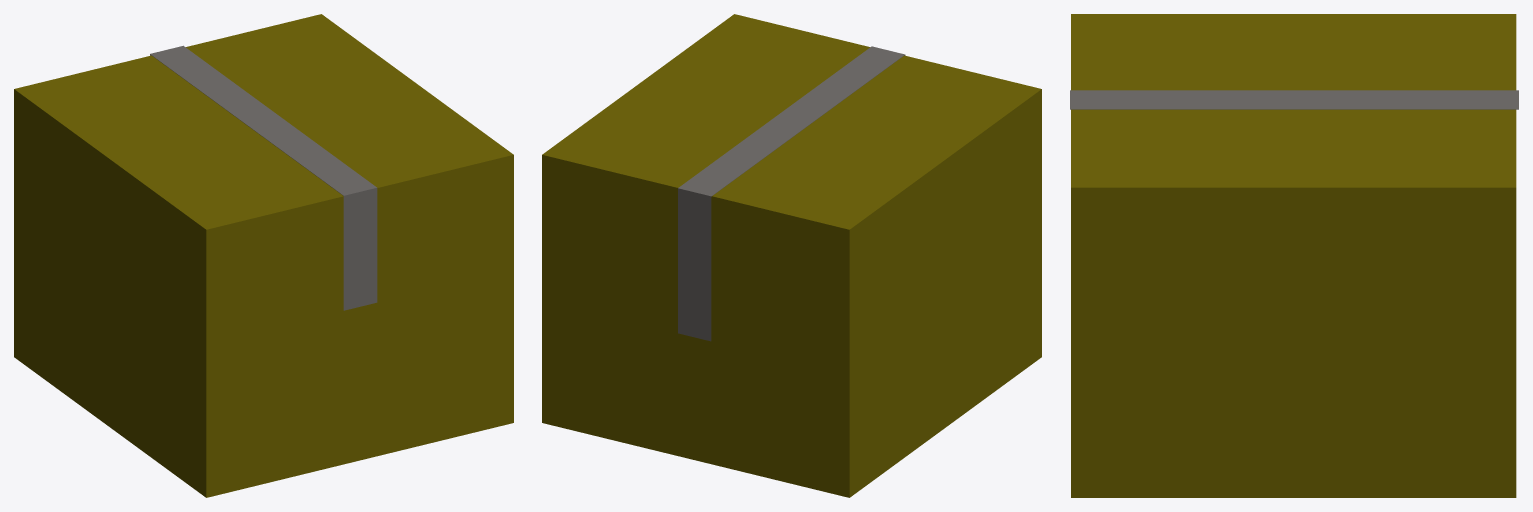
The picture shows the model from 3 angles, left to right: view 1: azimuth 30°, elevation 25°; view 2: azimuth 150°, elevation 25°; view 3: azimuth 270°, elevation 25°; orthographic projection. The views are drawn at different scales.
Parts seen in each view (by area): view 1: Cube, Cube.001; view 2: Cube, Cube.001; view 3: Cube, Cube.001.
Part boxes in pixels (x1=…): Cube: x1=14, y1=14, x2=513, y2=497; Cube.001: x1=150, y1=45, x2=377, y2=310; Cube: x1=542, y1=14, x2=1041, y2=497; Cube.001: x1=678, y1=46, x2=905, y2=341; Cube: x1=1071, y1=14, x2=1516, y2=497; Cube.001: x1=1070, y1=90, x2=1518, y2=109.
Bounding box in the file's own units: 48 × 40.12 × 52.42.
